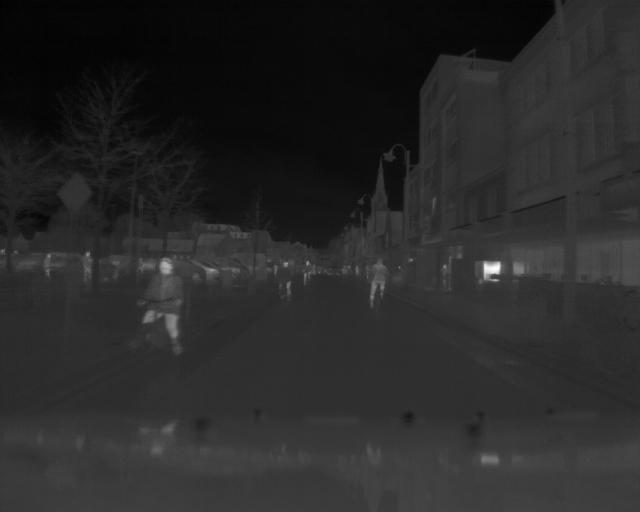person: (137, 256, 182, 351), (366, 254, 392, 308), (78, 248, 98, 288), (275, 259, 292, 300), (302, 256, 313, 286), (440, 261, 451, 288), (43, 248, 52, 275)
